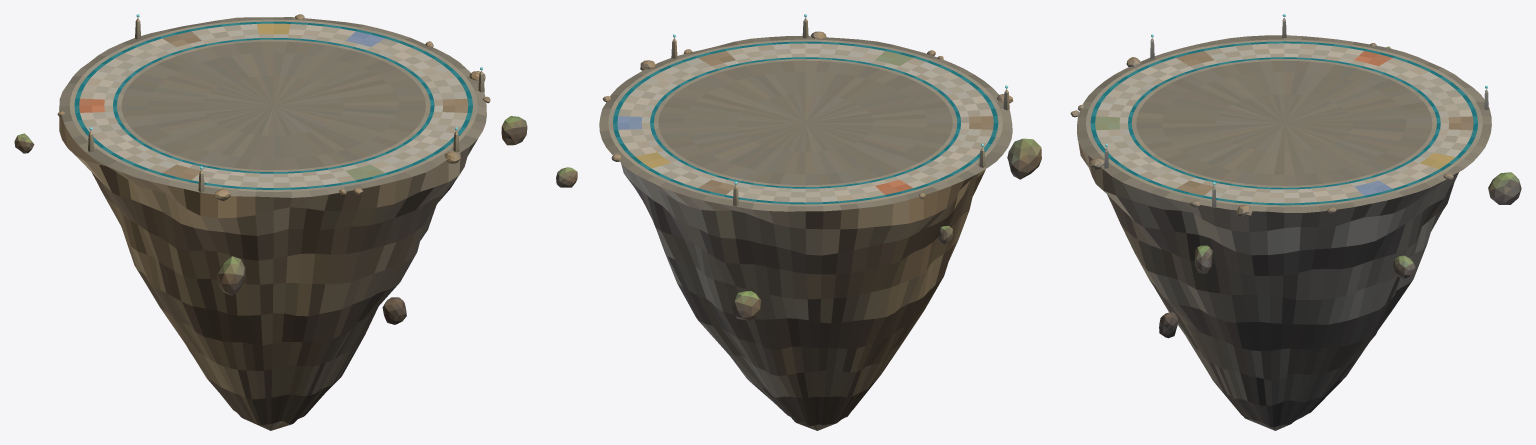
The model's file is isle_heart.glb.
3 views of the same model, side by side, from view 1: azimuth 30°, elevation 25°; view 2: azimuth 150°, elevation 25°; view 3: azimuth 270°, elevation 25° (orthographic). The views are drawn at different scales.
Parts seen in each view (by area): view 1: isle_heart; view 2: isle_heart; view 3: isle_heart.
Boxes of the visible parts, bbox=[...] form: isle_heart: bbox=[14, 14, 527, 430]; isle_heart: bbox=[556, 14, 1041, 430]; isle_heart: bbox=[1070, 14, 1521, 430].
Size of the model in its own units: 61.21 by 48.25 by 59.14.
